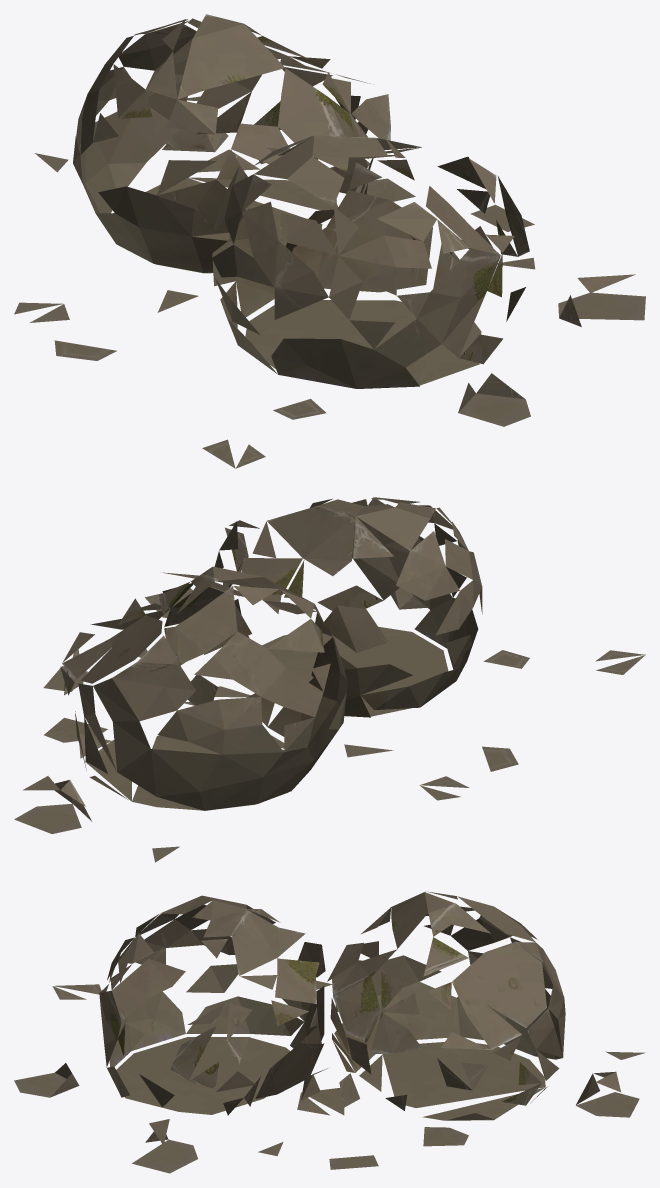
The model's file is rocks_small_LOD2.glb.
3 views of the same model, one above another, from view 1: azimuth 30°, elevation 25°; view 2: azimuth 150°, elevation 25°; view 3: azimuth 270°, elevation 25° (orthographic). The views are drawn at different scales.
Parts seen in each view (by area): view 1: rocks_small_LOD2; view 2: rocks_small_LOD2; view 3: rocks_small_LOD2.
Boxes of the visible parts, x1,y1,x2,y2 form: rocks_small_LOD2: (14,14,645,468); rocks_small_LOD2: (14,497,645,862); rocks_small_LOD2: (14,891,645,1173).
Bounding box in the file's own units: 0.7298 × 0.2954 × 0.9998.
1 material, 1 textured.
